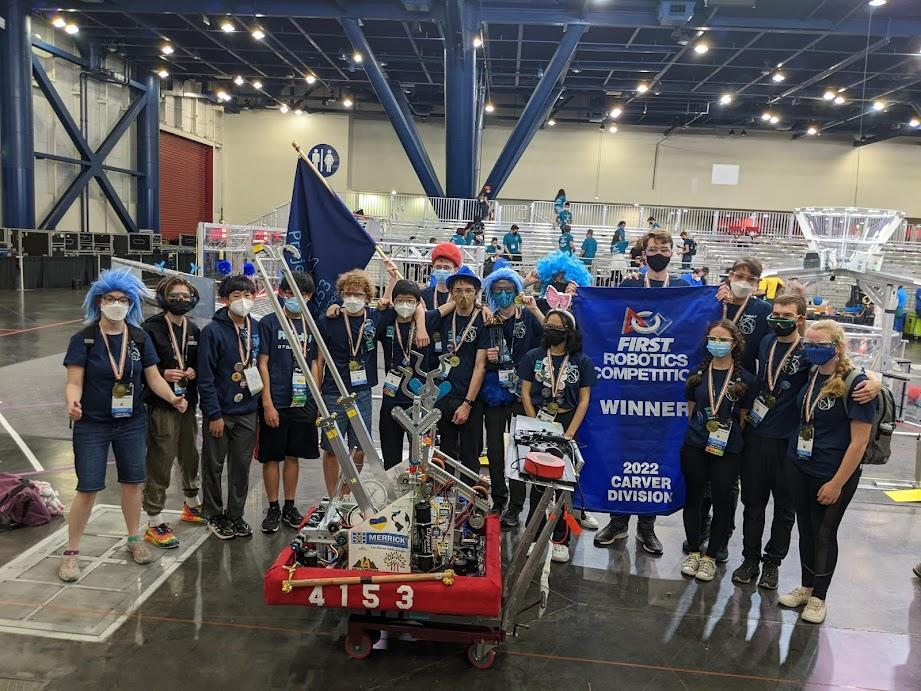robot: (243, 240, 510, 628)
